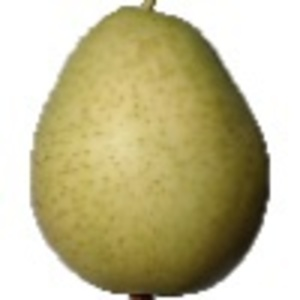pera: (1, 1, 271, 300)
